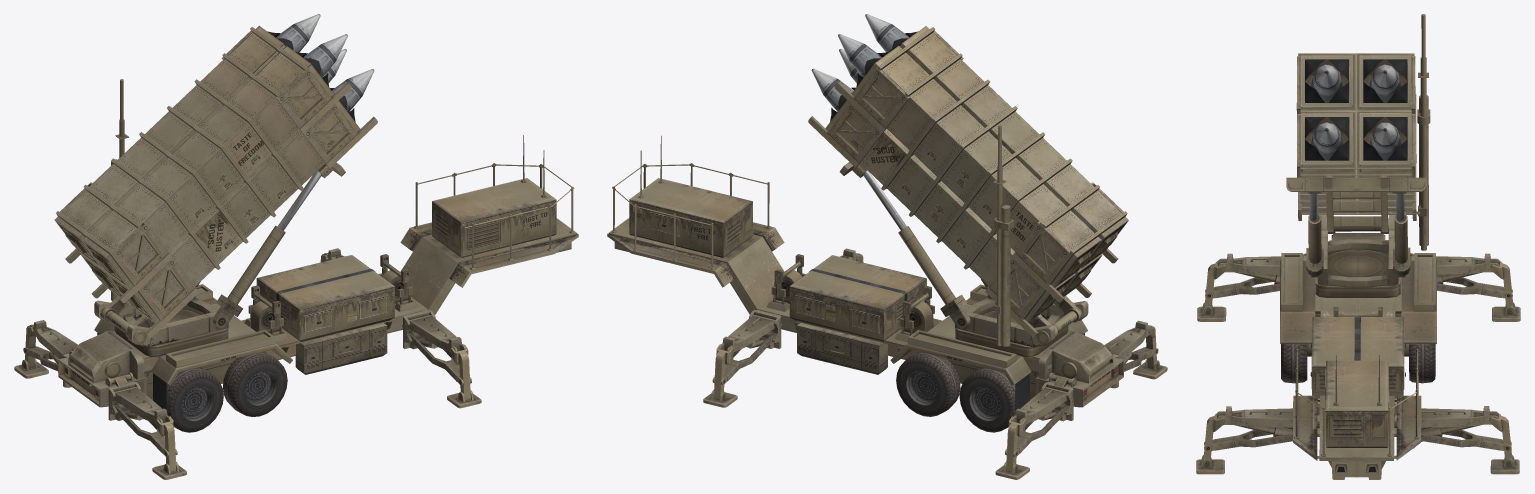
File: patriot.glb
3 views of the same model, side by side, from view 1: azimuth 30°, elevation 25°; view 2: azimuth 150°, elevation 25°; view 3: azimuth 270°, elevation 25° (orthographic). The views are drawn at different scales.
Visible parts, largest first — view 1: Object_4, Object_3, Object_2; view 2: Object_4, Object_3, Object_2; view 3: Object_3, Object_4, Object_2.
Boxes of the visible parts, left/top/right/bottom form: Object_4: left=54, top=14, right=377, bottom=344; Object_3: left=14, top=135, right=578, bottom=479; Object_2: left=167, top=351, right=287, bottom=432; Object_4: left=808, top=14, right=1128, bottom=346; Object_3: left=607, top=135, right=1167, bottom=479; Object_2: left=896, top=352, right=1015, bottom=432; Object_3: left=1196, top=215, right=1520, bottom=479; Object_4: left=1286, top=14, right=1430, bottom=277; Object_2: left=1281, top=344, right=1435, bottom=383.
Bounding box in the file's own units: 1022 × 697 × 561.
2 materials, 2 textured.
